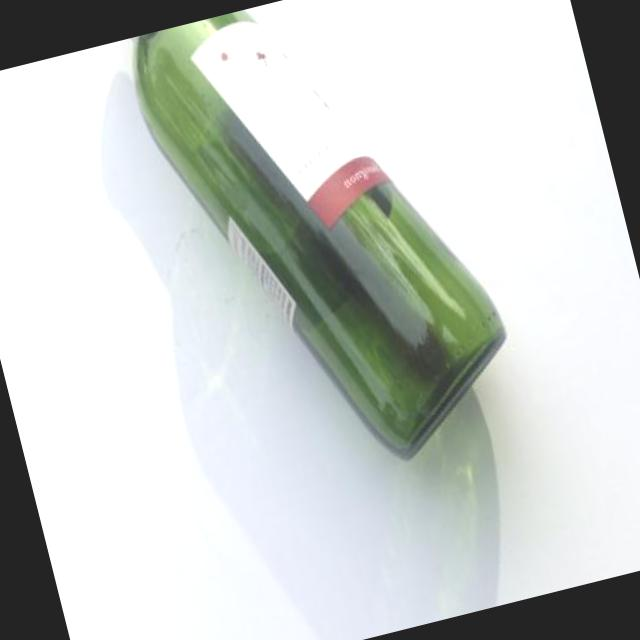chai_thuy_tinh: (135, 8, 507, 458)
